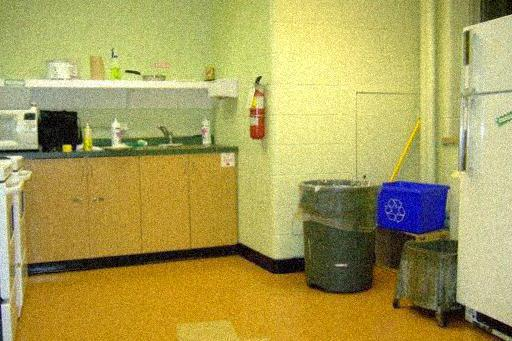Bote de Basura: (300, 181, 381, 295), (383, 185, 452, 229)
Electrodomestico: (465, 31, 512, 314), (12, 155, 30, 334), (0, 159, 16, 335)
Otro Obstaculo: (395, 235, 462, 330)
Puerta: (357, 89, 425, 184)
